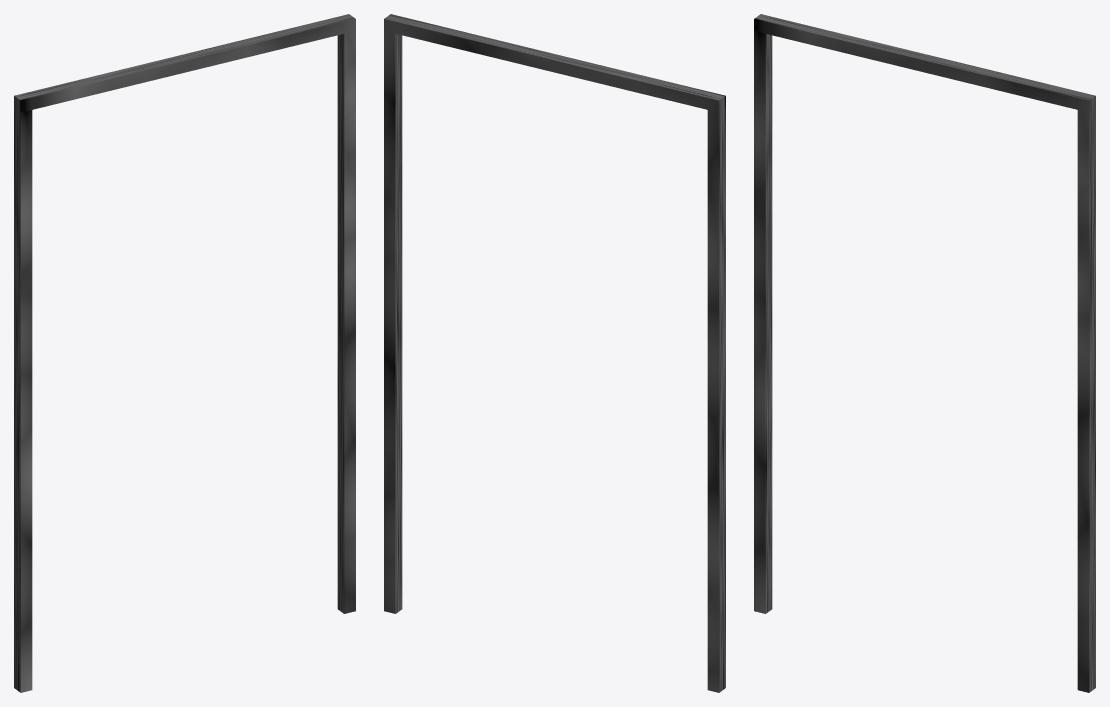
The model's file is border.obj.
3 renders of one model, left to right at view 1: azimuth 30°, elevation 25°; view 2: azimuth 150°, elevation 25°; view 3: azimuth 330°, elevation 25°, orthographic.
Visible parts, largest first — view 1: Border_Cube; view 2: Border_Cube; view 3: Border_Cube.
Boxes of the visible parts, x1,y1,x2,y2 form: Border_Cube: (14, 14, 355, 692); Border_Cube: (384, 14, 725, 692); Border_Cube: (754, 14, 1095, 692).
Bounding box in the file's own units: 29 × 49 × 1.
1 material, 1 textured.
